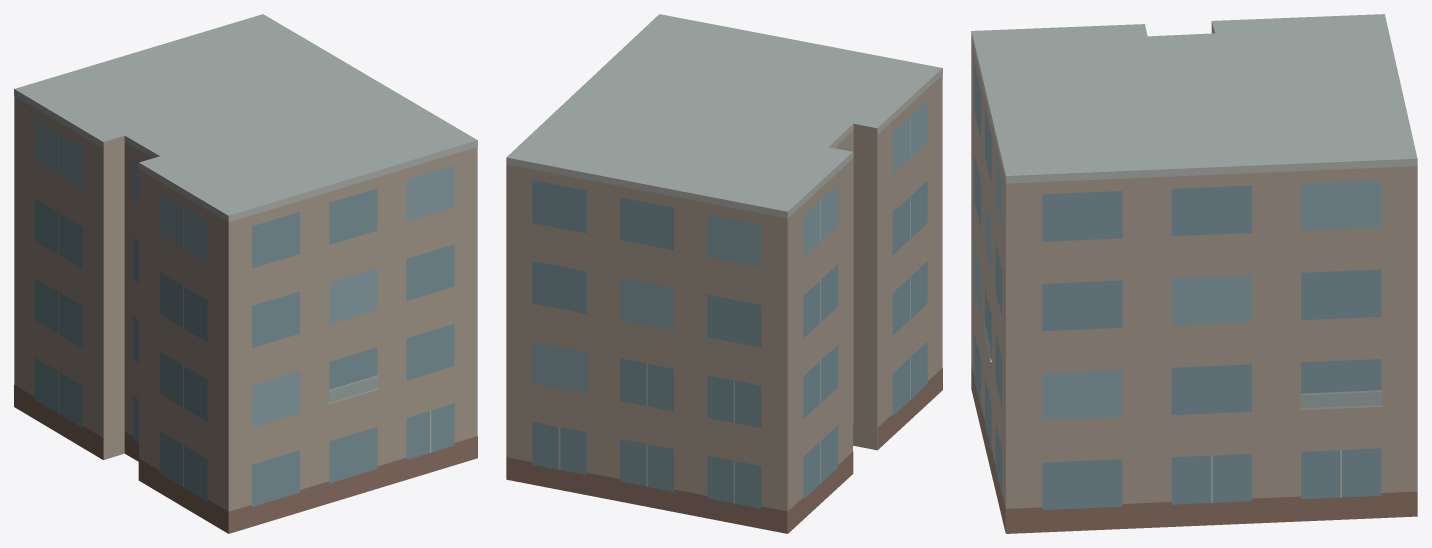
File: survey-upis-32652716.glb
3 renders of one model, left to right at view 1: azimuth 30°, elevation 25°; view 2: azimuth 150°, elevation 25°; view 3: azimuth 270°, elevation 25°, orthographic. The views are drawn at different scales.
Visible parts, largest first — view 1: survey-upis-32652716.tmp; view 2: survey-upis-32652716.tmp; view 3: survey-upis-32652716.tmp.
Part boxes in pixels (bbox=[...]): survey-upis-32652716.tmp: bbox=[14, 14, 477, 533]; survey-upis-32652716.tmp: bbox=[506, 14, 942, 533]; survey-upis-32652716.tmp: bbox=[971, 14, 1417, 533].
Size of the model in its own units: 11.38 by 11.7 by 13.23.
